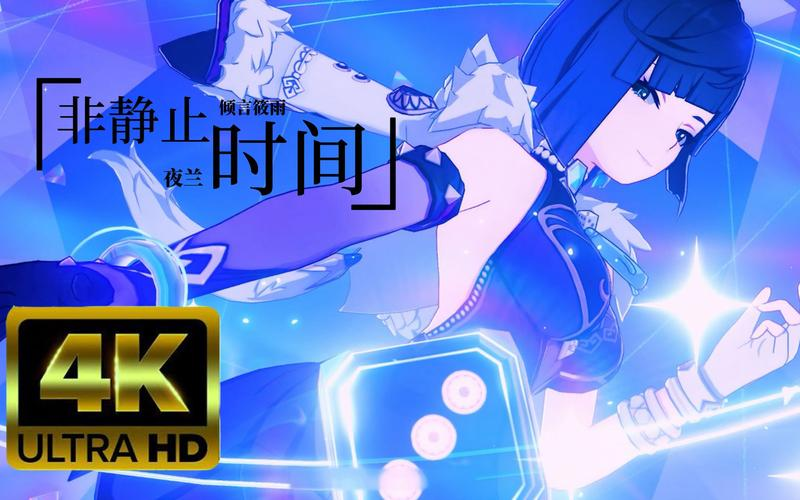夜兰: (1, 4, 797, 494)
